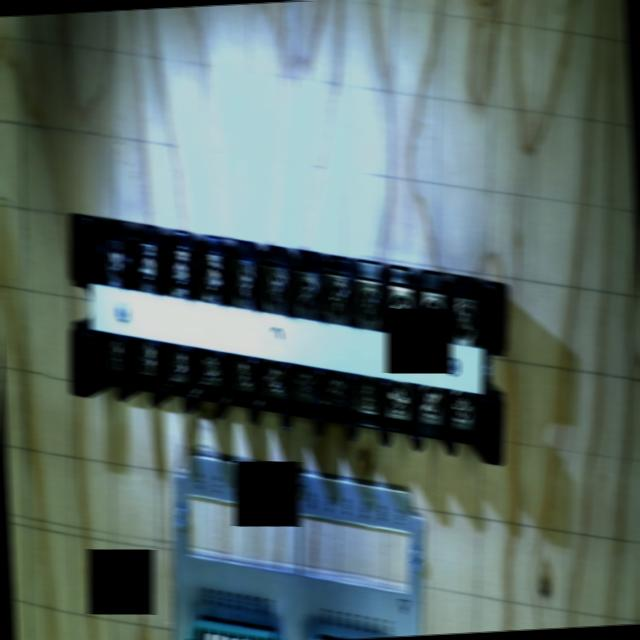Phillips_Block: (41, 214, 532, 464)
